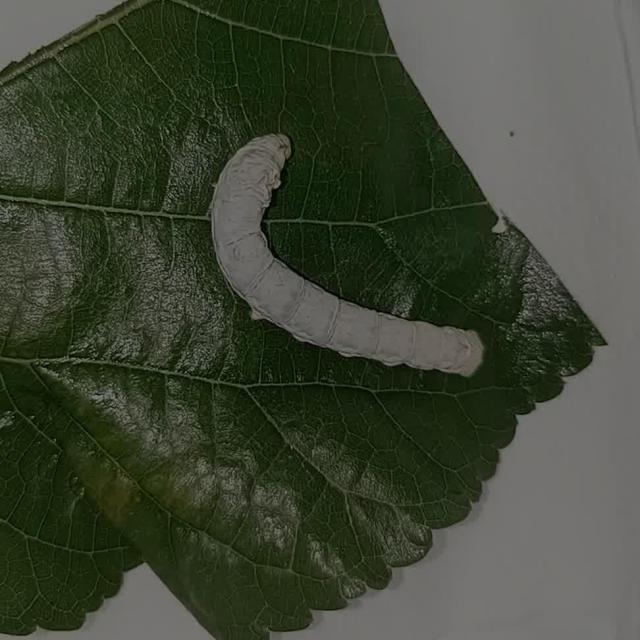Healthy: (183, 115, 506, 418)
